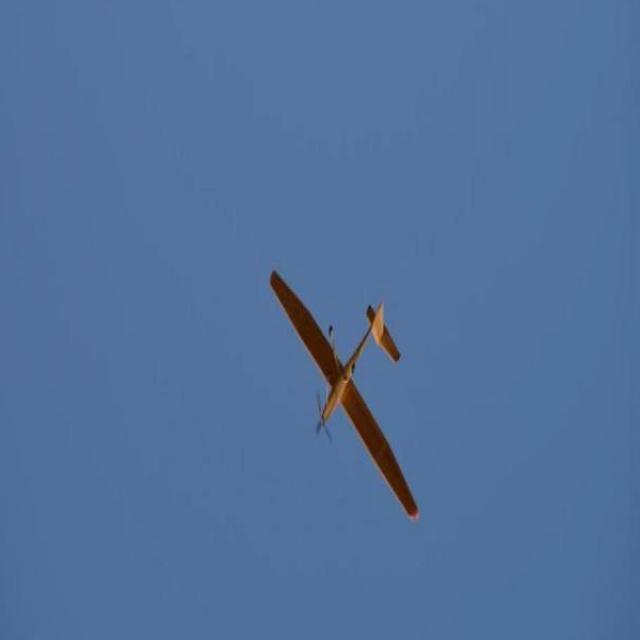plane: (268, 269, 422, 524)
